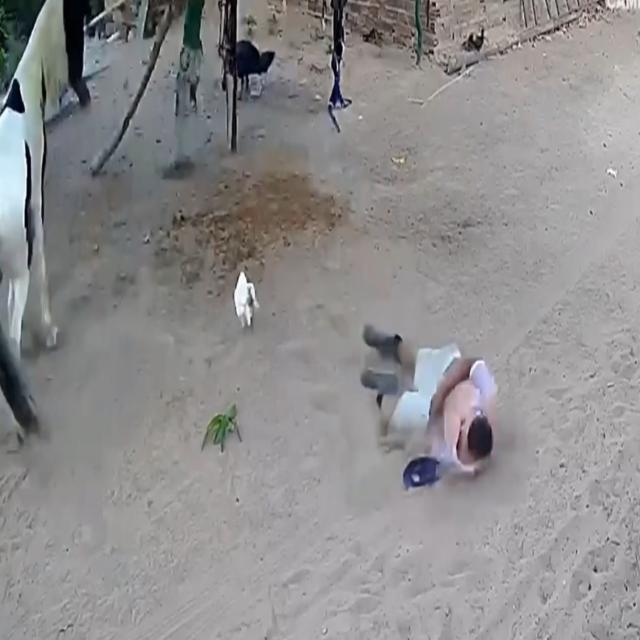fallen: (360, 325, 498, 477)
